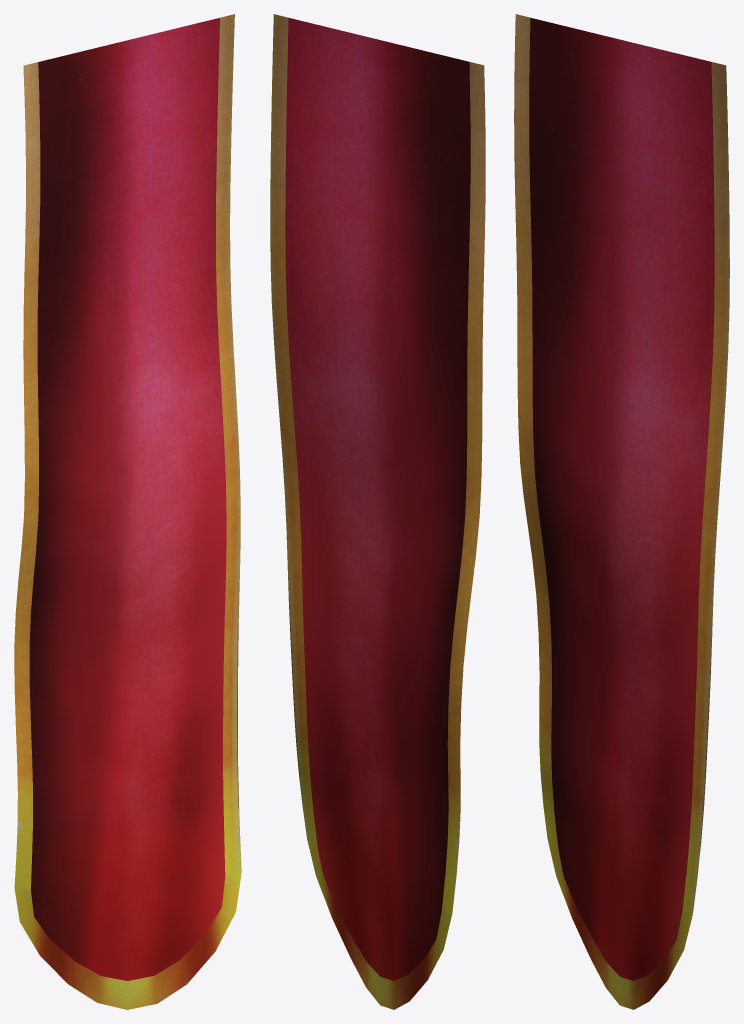
The model's file is flag.FBX.
3 views of the same model, side by side, from view 1: azimuth 30°, elevation 25°; view 2: azimuth 150°, elevation 25°; view 3: azimuth 330°, elevation 25° (orthographic).
Visible parts, largest first — view 1: flag; view 2: flag; view 3: flag.
Part boxes in pixels (box(x1,y1,x2,y2)): flag: box(14, 14, 241, 1009); flag: box(270, 14, 485, 1009); flag: box(514, 14, 729, 1009).
Size of the model in its own units: 80.01 by 28.72 by 351.
